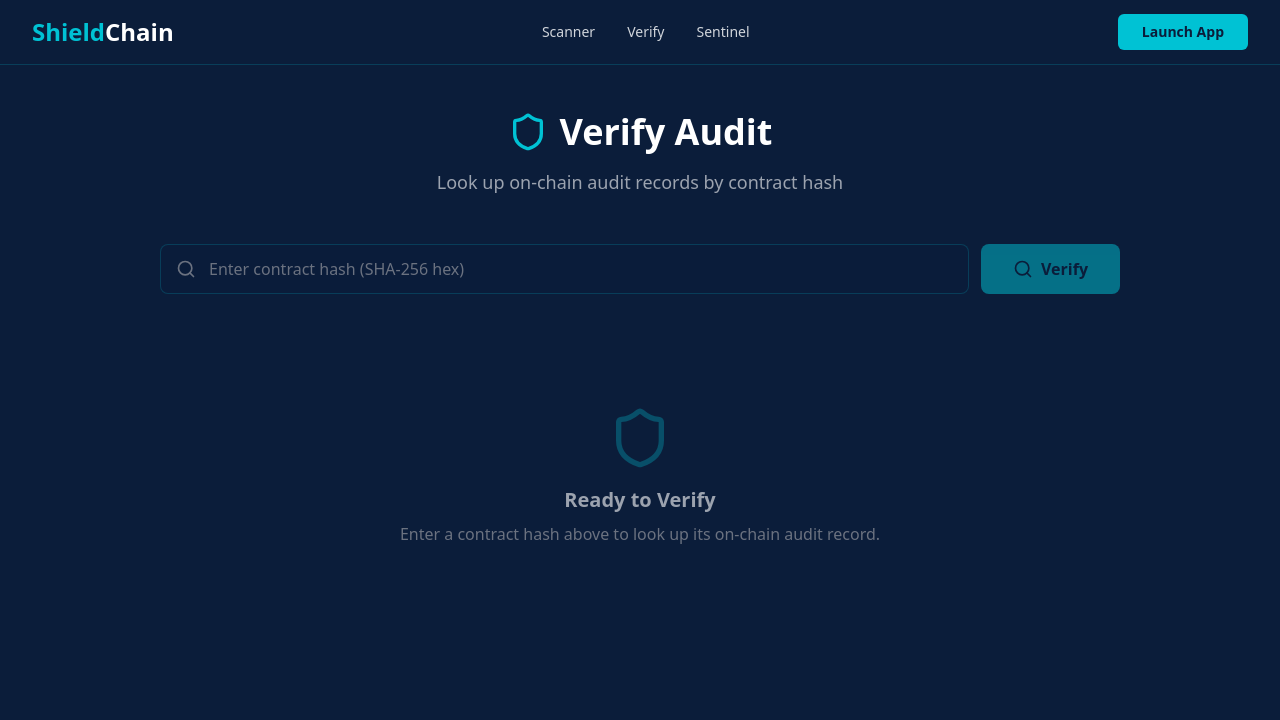
Scenario: Frontend Unit Tests › test_verify_not_found_state › should display Not Found message when contract hash does not exist
// Enter a contract hash
Type "nonexistent_hash_123" into the field with placeholder "Enter contract hash (SHA-256 hex)".
click(564, 269); type("nonexistent_hash_123")  # box [160, 244, 969, 294]
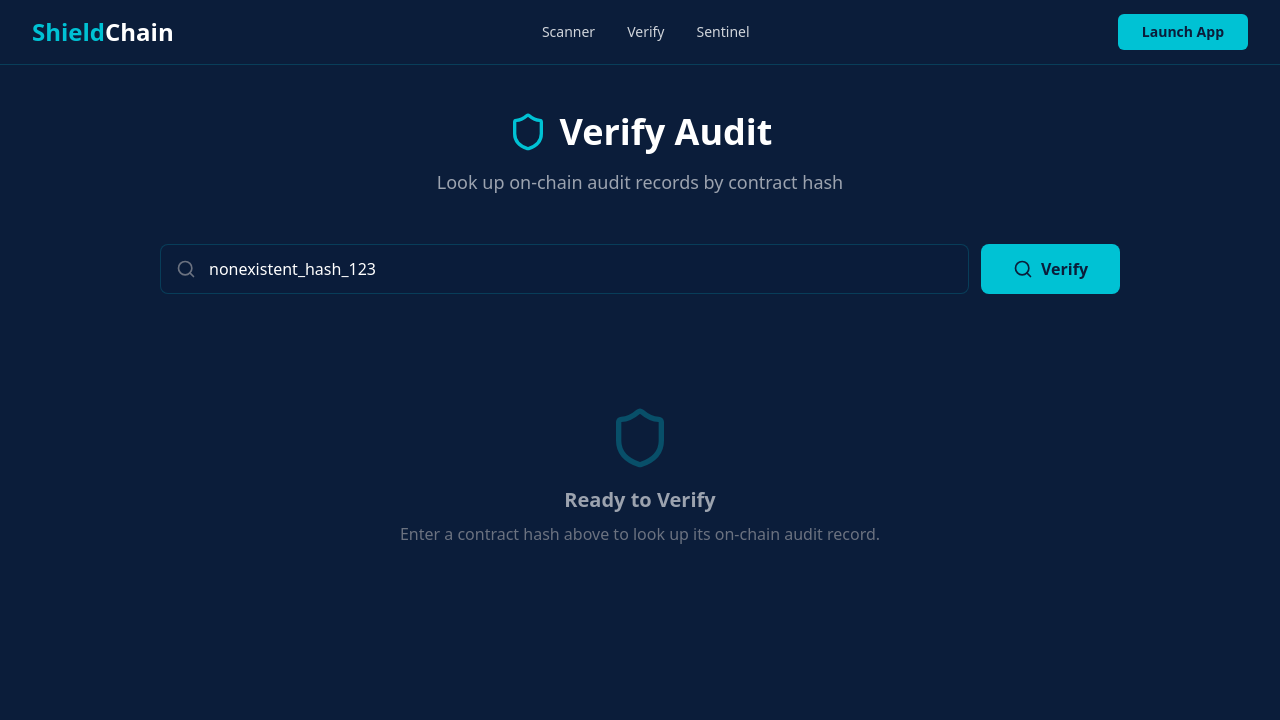
// Click Verify button (use getByRole to be more specific)
Click the button "Verify".
click(1050, 269)  # box [981, 244, 1120, 294]
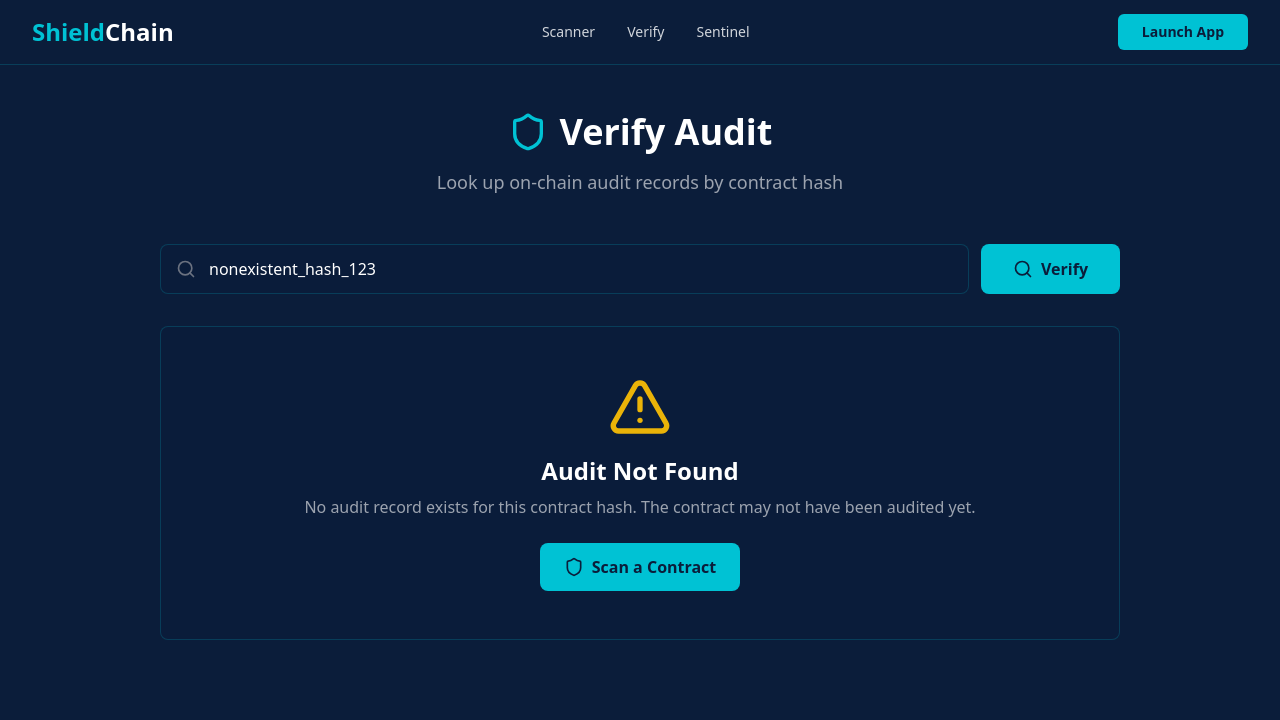
expect the heading "Audit Not Found" is shown: met, box [541, 454, 739, 487]
expect the text "No audit record exists for this contract hash" is shown: met, box [304, 496, 976, 518]
